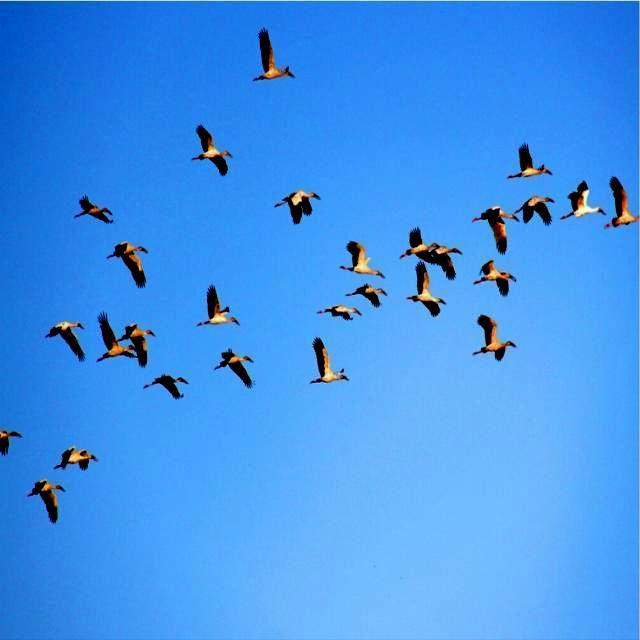bird: (188, 122, 240, 178), (190, 286, 252, 332), (470, 204, 520, 257), (304, 335, 351, 390), (254, 28, 297, 88), (471, 317, 520, 366), (49, 314, 93, 365), (105, 241, 153, 286), (560, 178, 604, 226), (411, 262, 446, 322), (217, 348, 259, 398), (95, 314, 136, 363), (269, 189, 324, 225), (122, 320, 162, 368), (606, 171, 636, 233), (342, 235, 382, 281), (32, 476, 68, 527), (474, 260, 520, 299), (142, 374, 194, 406), (423, 238, 460, 282), (509, 142, 550, 180), (398, 224, 436, 265), (518, 192, 558, 228), (56, 444, 99, 476), (74, 192, 114, 226), (347, 282, 392, 310), (322, 301, 368, 324), (0, 420, 25, 455)
